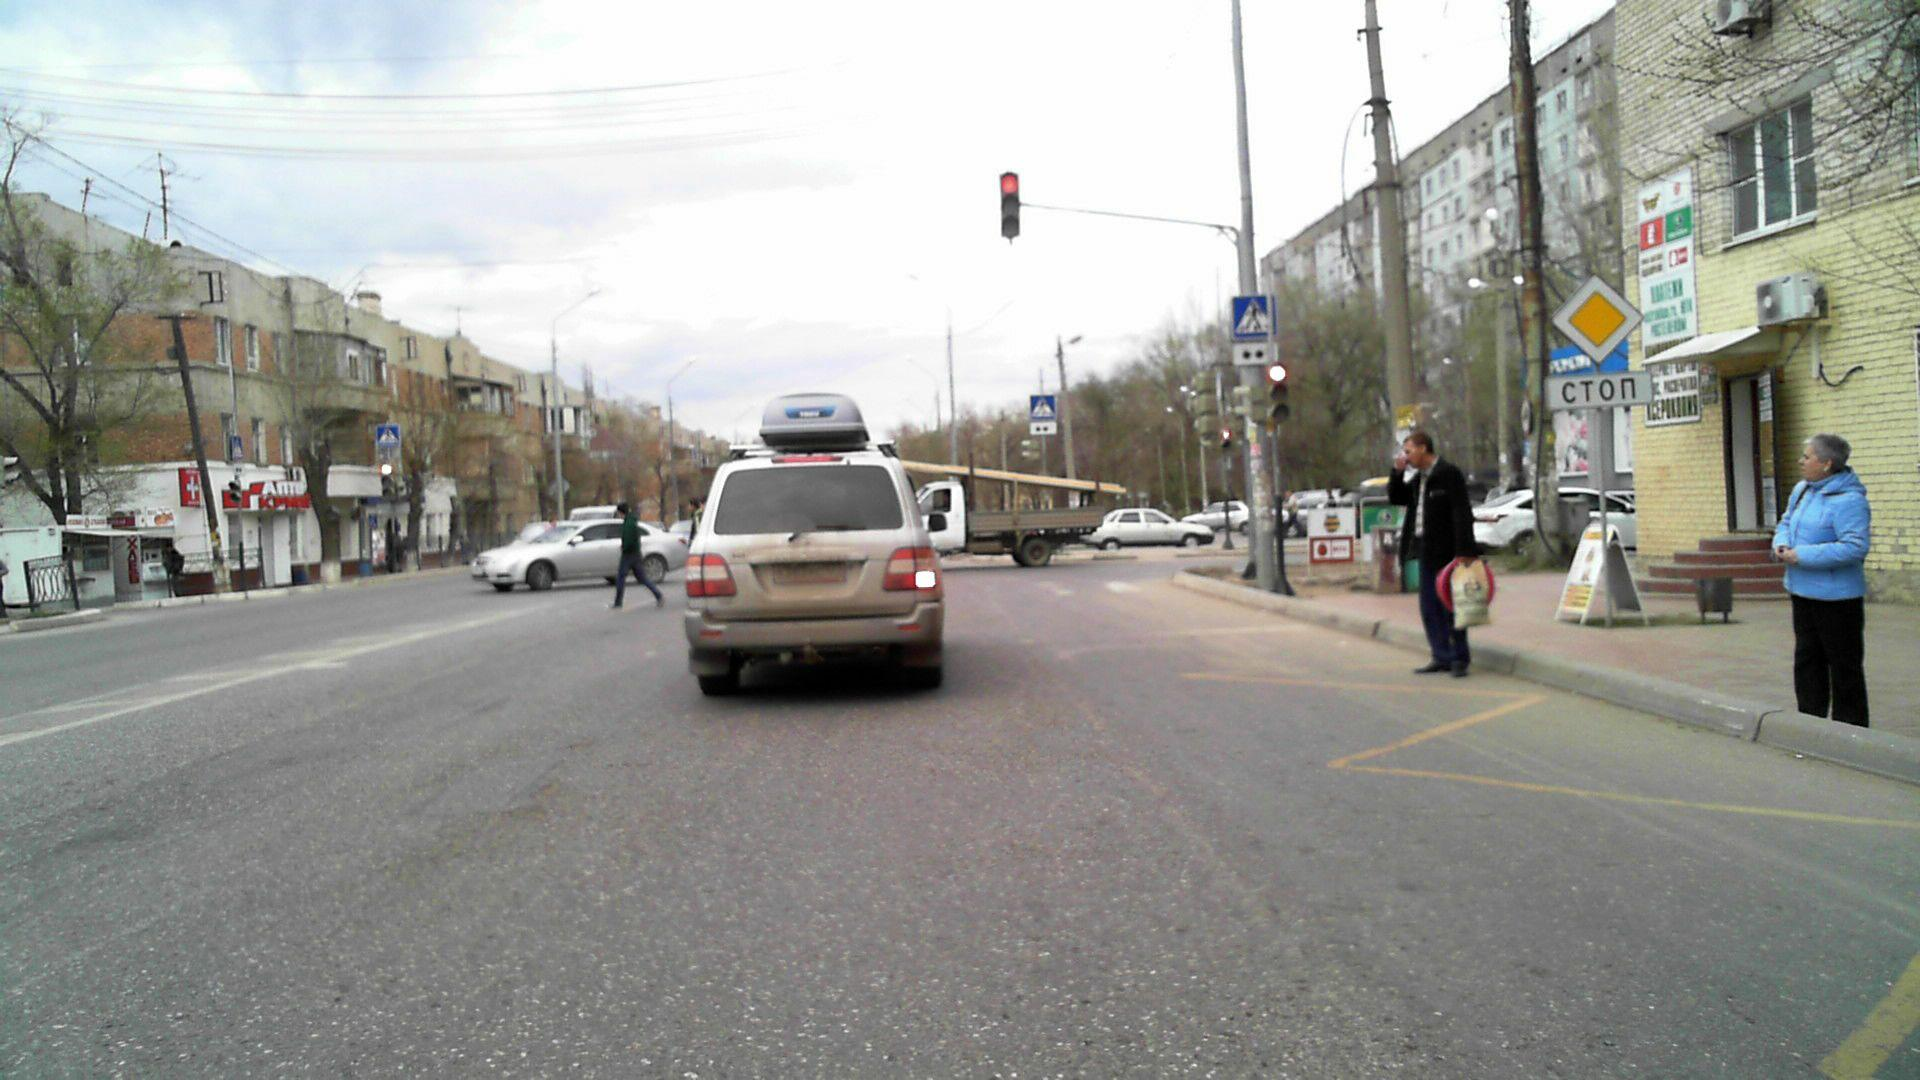2_1: (1549, 274, 1646, 363)
5_19_1: (1233, 295, 1278, 336), (1027, 394, 1055, 419), (227, 434, 247, 458)
5_19_2: (378, 425, 401, 447)
6_16: (1544, 375, 1655, 407)
8_15: (1229, 342, 1276, 364), (1029, 419, 1060, 436), (228, 463, 245, 476)
